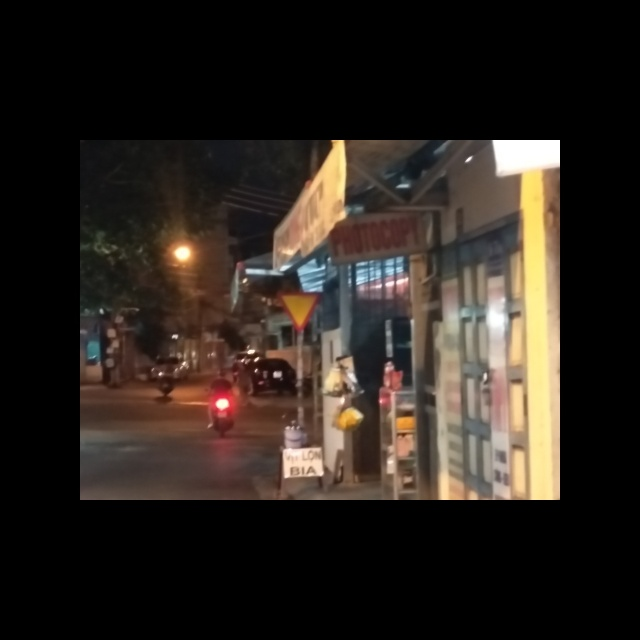Giao nhau với đường ưu tiên: (279, 290, 321, 333)
